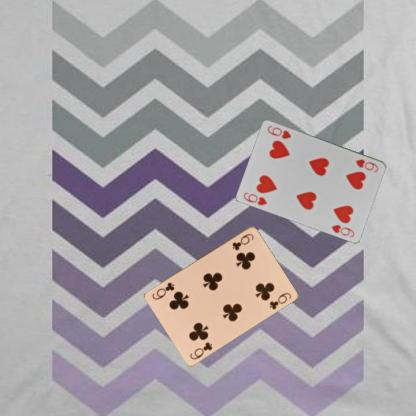6c: (187, 339, 214, 361), (230, 231, 256, 252)
6h: (353, 156, 380, 173), (241, 190, 269, 206)
